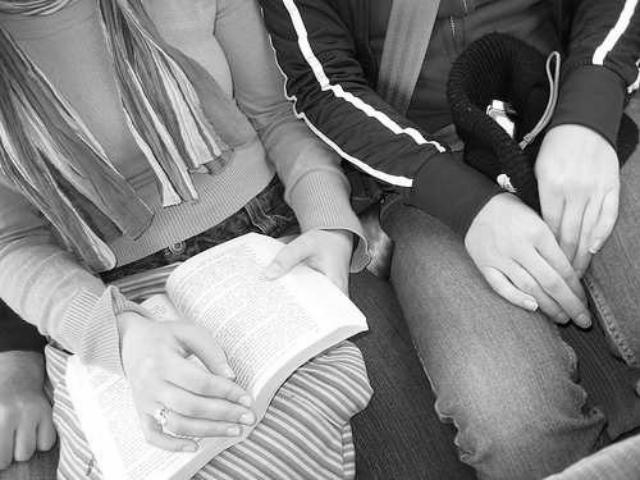Seatbelt: (370, 0, 448, 122)
